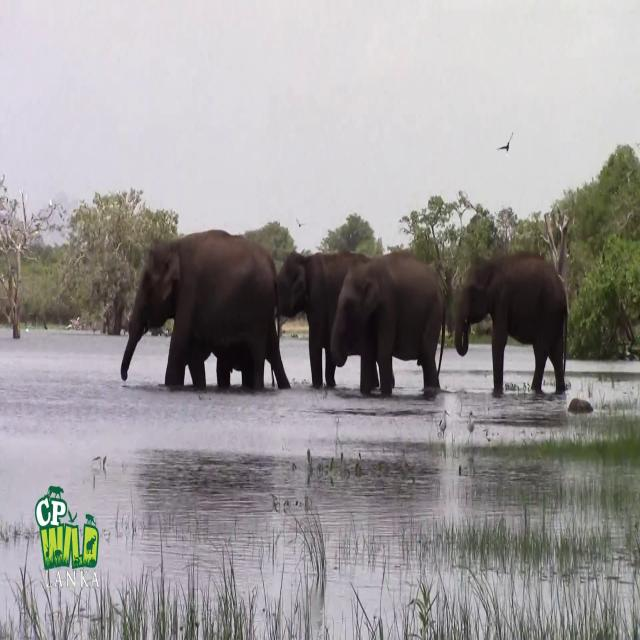Elephant: (120, 228, 291, 391), (329, 249, 446, 396), (454, 250, 568, 394), (274, 250, 380, 390)
